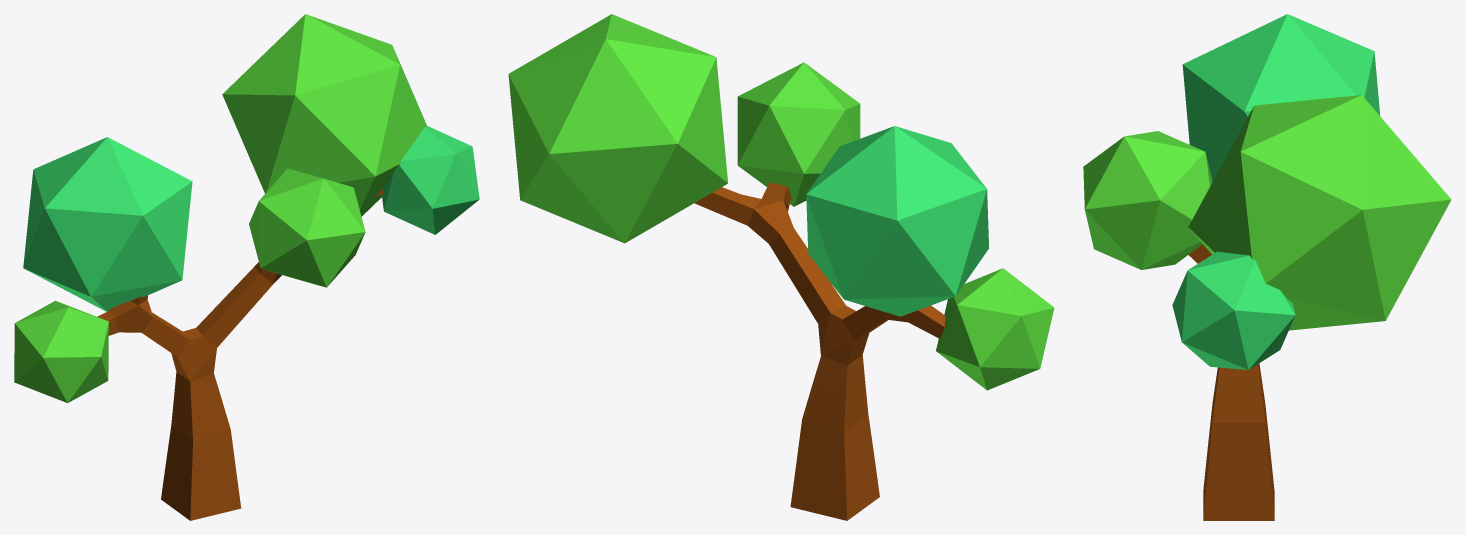
Rendered from tree_low_poly.fbx.
The picture shows the model from 3 angles, left to right: view 1: azimuth 30°, elevation 25°; view 2: azimuth 150°, elevation 25°; view 3: azimuth 270°, elevation 25°; orthographic projection. The views are drawn at different scales.
Parts seen in each view (by area): view 1: 아이코스피어.001, 아이코스피어.003, Cube, 아이코스피어.002, 아이코스피어.004, 아이코스피어; view 2: 아이코스피어.001, 아이코스피어.003, Cube, 아이코스피어.002, 아이코스피어.004; view 3: 아이코스피어.001, 아이코스피어.003, 아이코스피어.002, 아이코스피어, Cube.
Boxes of the visible parts, <box> form: 아이코스피어.001: <box>222,14,426,216</box>; 아이코스피어.003: <box>23,137,192,311</box>; Cube: <box>97,188,383,520</box>; 아이코스피어.002: <box>249,168,365,287</box>; 아이코스피어.004: <box>14,300,108,403</box>; 아이코스피어: <box>381,126,479,234</box>; 아이코스피어.001: <box>508,14,727,243</box>; 아이코스피어.003: <box>806,126,988,316</box>; Cube: <box>694,182,945,520</box>; 아이코스피어.002: <box>737,62,860,206</box>; 아이코스피어.004: <box>936,268,1054,390</box>; 아이코스피어.001: <box>1188,95,1451,330</box>; 아이코스피어.003: <box>1182,14,1380,181</box>; 아이코스피어.002: <box>1083,131,1212,269</box>; 아이코스피어: <box>1172,251,1295,369</box>; Cube: <box>1188,244,1274,520</box>.
Bounding box in the file's own units: 926 × 807 × 536.
